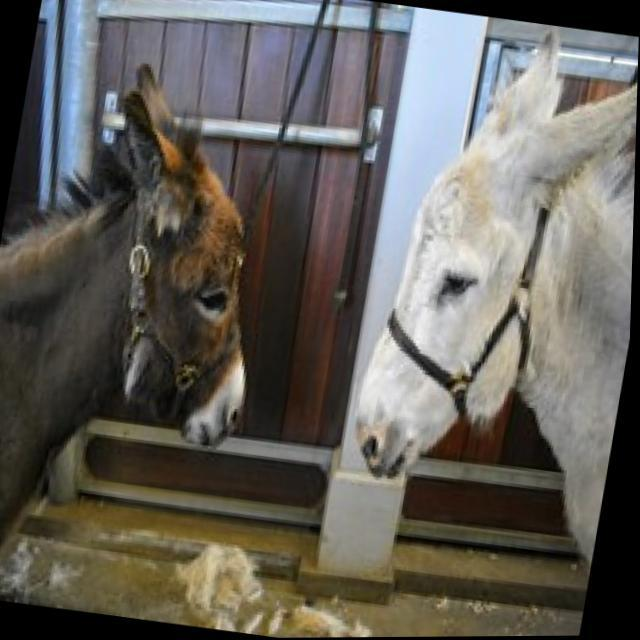Donkey: (323, 7, 640, 638), (0, 44, 303, 627)
